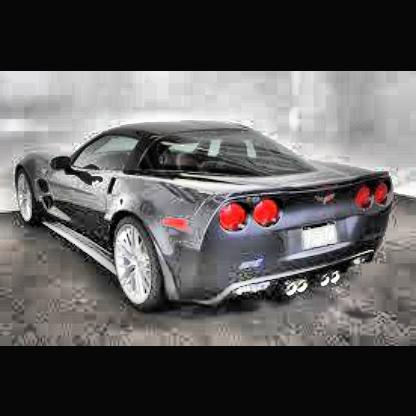Chevrolet Corvette ZR1 2012: (9, 114, 400, 320)
